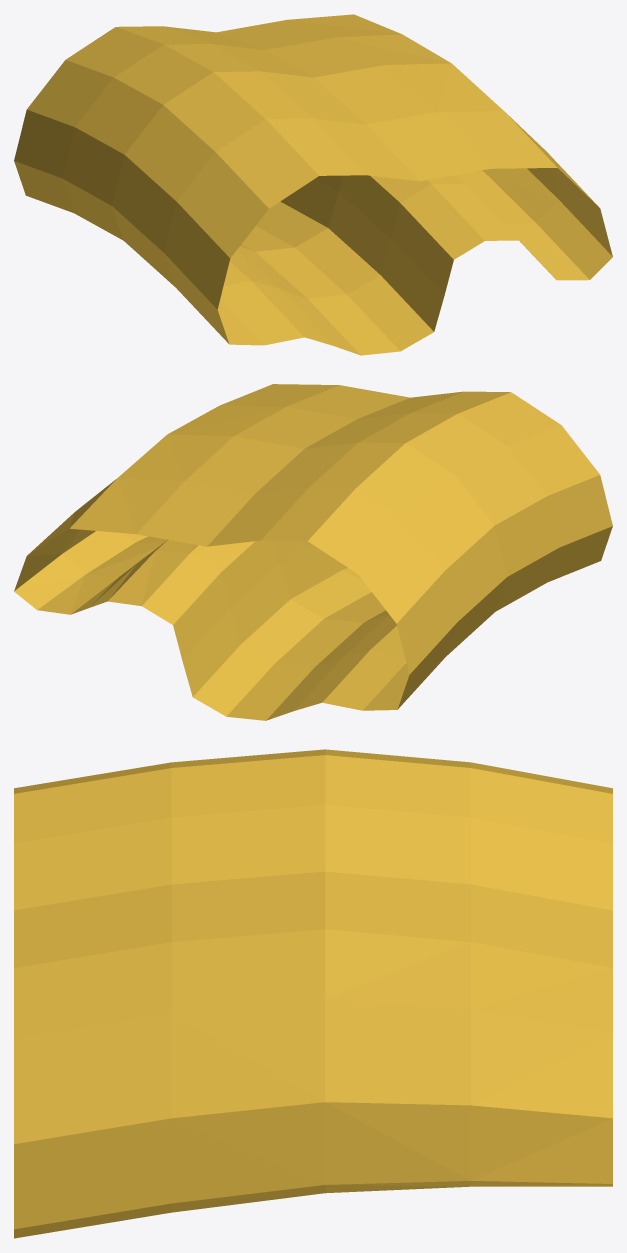
Rendered from besh.dae.
The picture shows the model from 3 angles, top to bottom: view 1: azimuth 30°, elevation 25°; view 2: azimuth 150°, elevation 25°; view 3: azimuth 270°, elevation 25°; orthographic projection. The views are drawn at different scales.
Visible parts, largest first — view 1: Plane; view 2: Plane; view 3: Plane.
Part boxes in pixels (x1,y1,x2,y2): Plane: (14, 14, 612, 355); Plane: (14, 384, 612, 720); Plane: (14, 749, 612, 1238).
Size of the model in its own units: 26.2 by 23.37 by 14.05.
